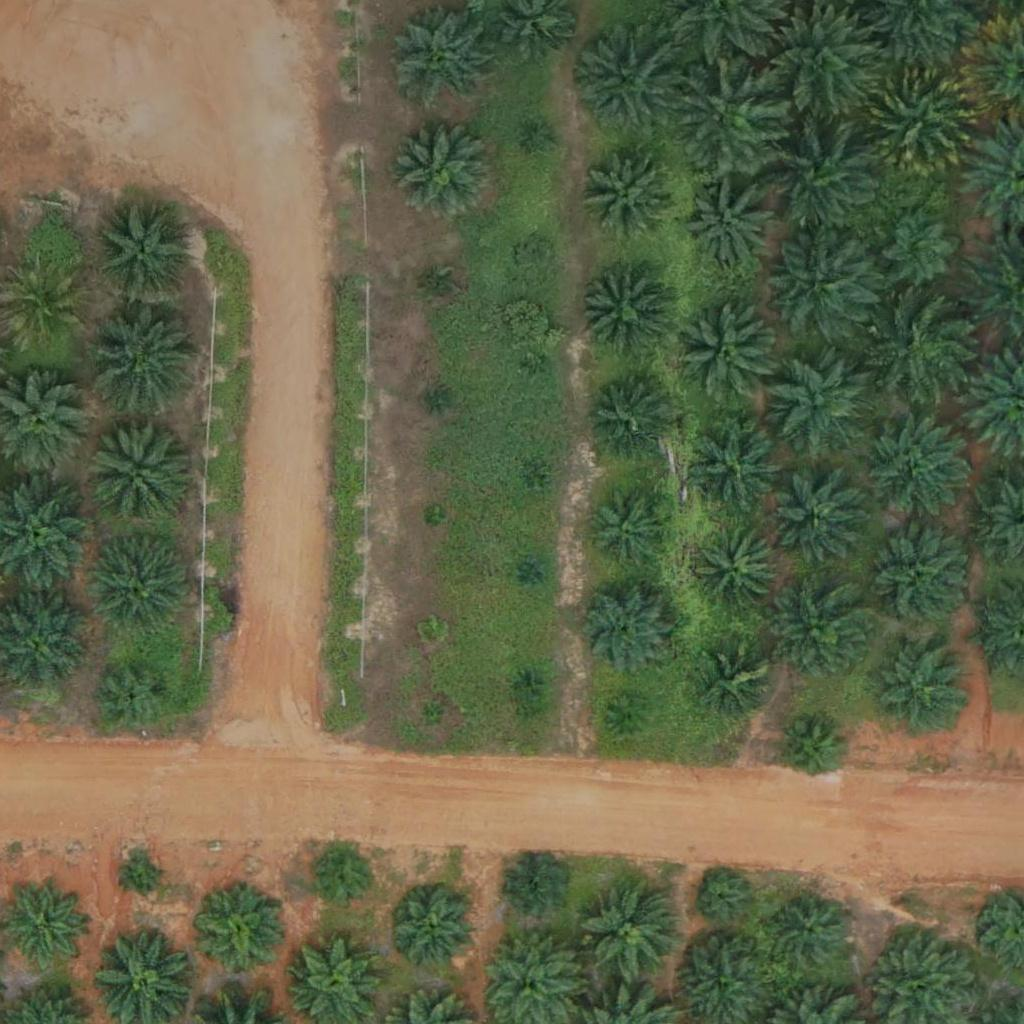Kelapa_Sawit: (570, 24, 683, 138), (863, 65, 976, 178), (764, 122, 876, 236), (768, 225, 880, 339), (673, 58, 785, 172), (761, 9, 873, 122), (570, 573, 682, 686), (89, 302, 201, 415), (767, 354, 867, 455), (676, 303, 776, 404), (684, 415, 784, 516), (391, 7, 491, 108), (389, 115, 489, 216), (771, 582, 871, 683), (865, 527, 965, 628), (870, 637, 970, 738), (91, 202, 191, 303), (581, 882, 681, 983), (872, 298, 972, 398), (865, 419, 965, 519), (86, 422, 186, 522), (91, 536, 191, 636), (588, 484, 676, 573), (585, 376, 673, 464), (694, 528, 782, 616), (391, 887, 479, 975), (774, 480, 861, 568), (686, 181, 773, 269), (586, 148, 673, 236), (579, 270, 666, 358), (198, 892, 285, 980), (97, 658, 172, 734), (881, 209, 956, 285), (701, 646, 776, 721), (773, 895, 848, 970), (780, 719, 843, 782), (503, 857, 566, 920), (313, 850, 375, 913), (698, 874, 748, 924), (517, 240, 555, 278), (610, 695, 648, 733), (125, 858, 162, 896), (530, 125, 555, 150), (526, 355, 551, 380), (520, 471, 545, 496), (426, 275, 451, 300), (426, 388, 451, 413), (422, 506, 447, 531), (418, 618, 443, 643), (421, 702, 446, 727), (521, 560, 546, 585), (514, 670, 539, 695)
